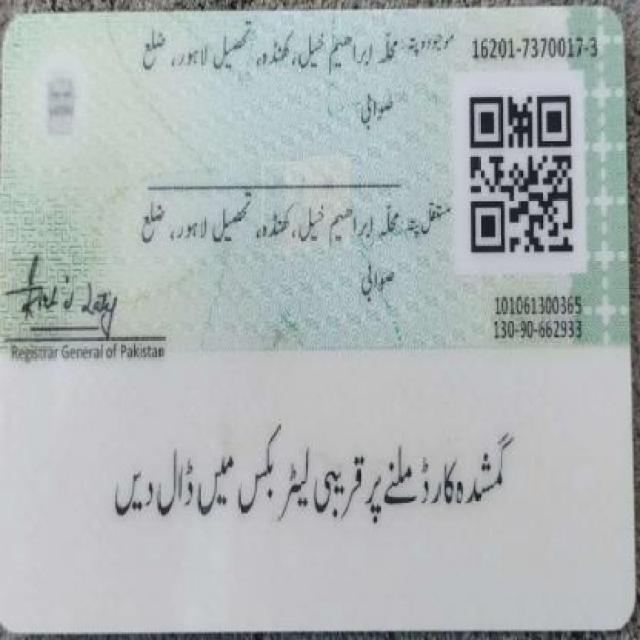Back: (4, 8, 630, 626)
